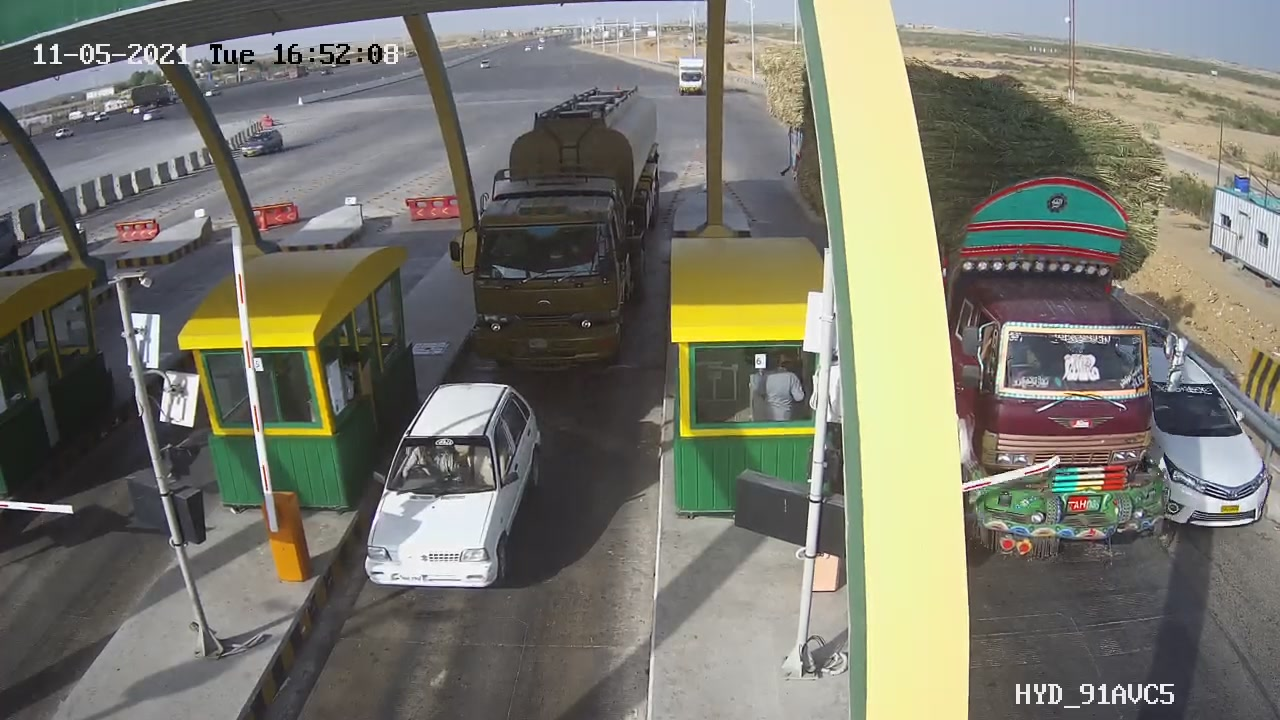F1: (339, 369, 571, 606)
F6: (463, 67, 677, 390)
